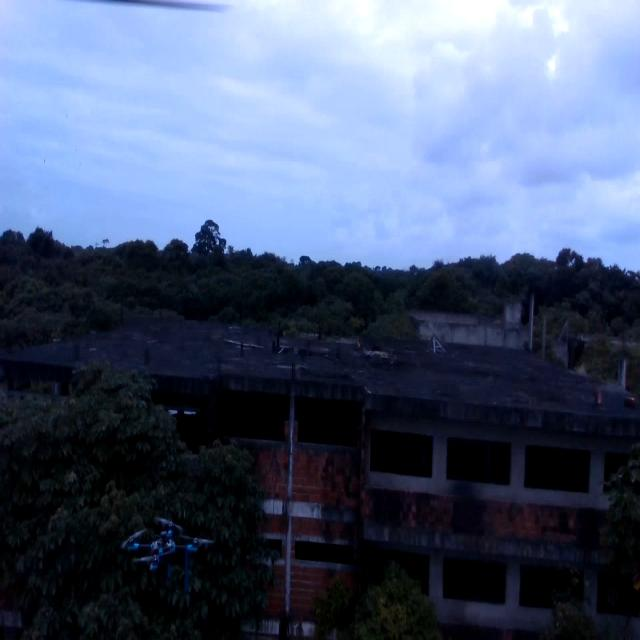-uav-: (116, 508, 220, 610)
